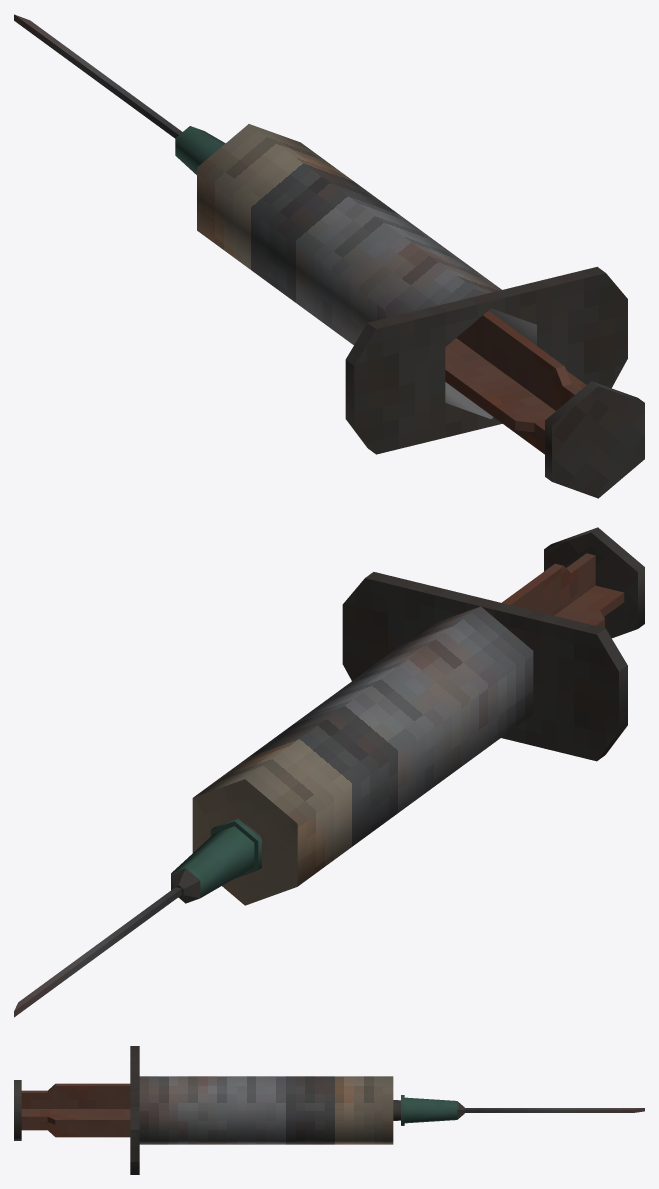
Rendered from syringe.glb.
3 renders of one model, top to bottom at view 1: azimuth 30°, elevation 25°; view 2: azimuth 150°, elevation 25°; view 3: azimuth 270°, elevation 25°, orthographic. The views are drawn at different scales.
Visible parts, largest first — view 1: syringe_mp_1; view 2: syringe_mp_1; view 3: syringe_mp_1.
Part boxes in pixels (x1,y1,x2,y2): syringe_mp_1: [14, 14, 644, 498]; syringe_mp_1: [14, 527, 644, 1017]; syringe_mp_1: [14, 1046, 644, 1174].
Bounding box in the file's own units: 0.0548 × 0.024 × 0.2016.
1 material, 1 textured.
